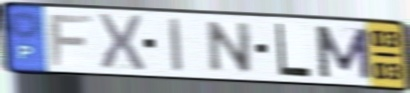F: (47, 13, 95, 68)
I: (167, 16, 185, 75)
L: (274, 21, 313, 80)
M: (312, 23, 375, 81)
N: (206, 19, 255, 75)
X: (95, 12, 148, 72)
